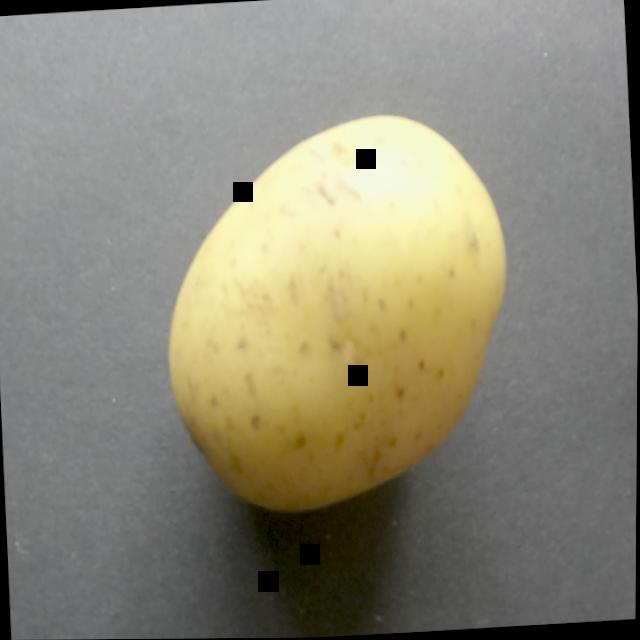Potato: (125, 52, 561, 577)
